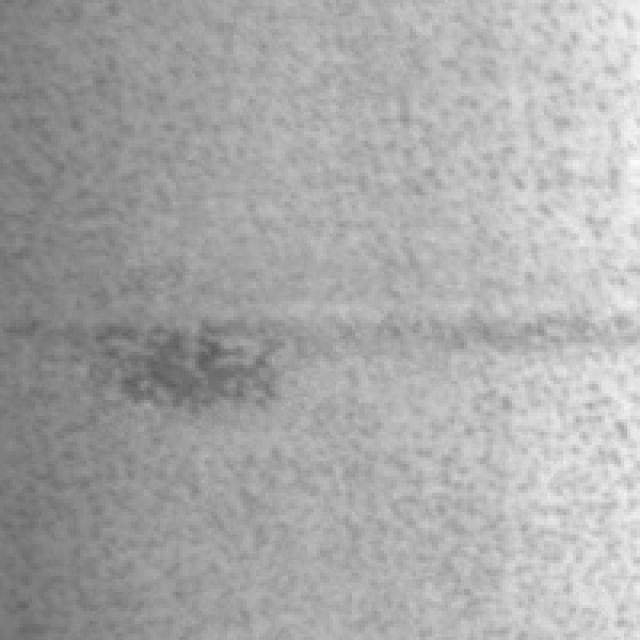pitted_surface: (9, 3, 636, 627)
